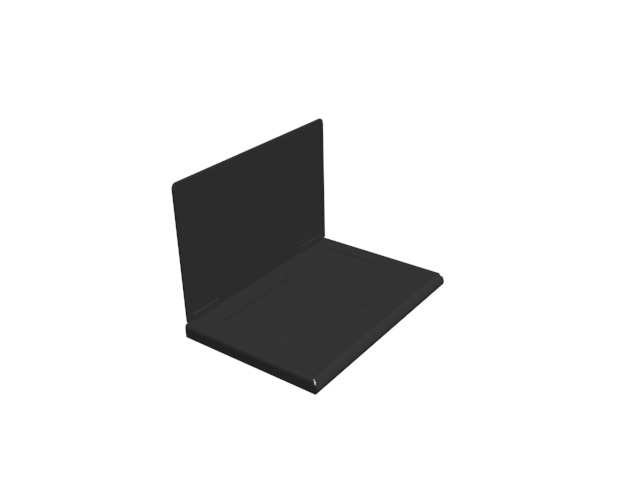laptop_computer: (169, 113, 448, 400)
